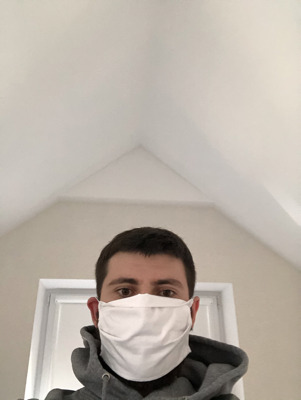with_mask: (98, 267, 194, 383)
